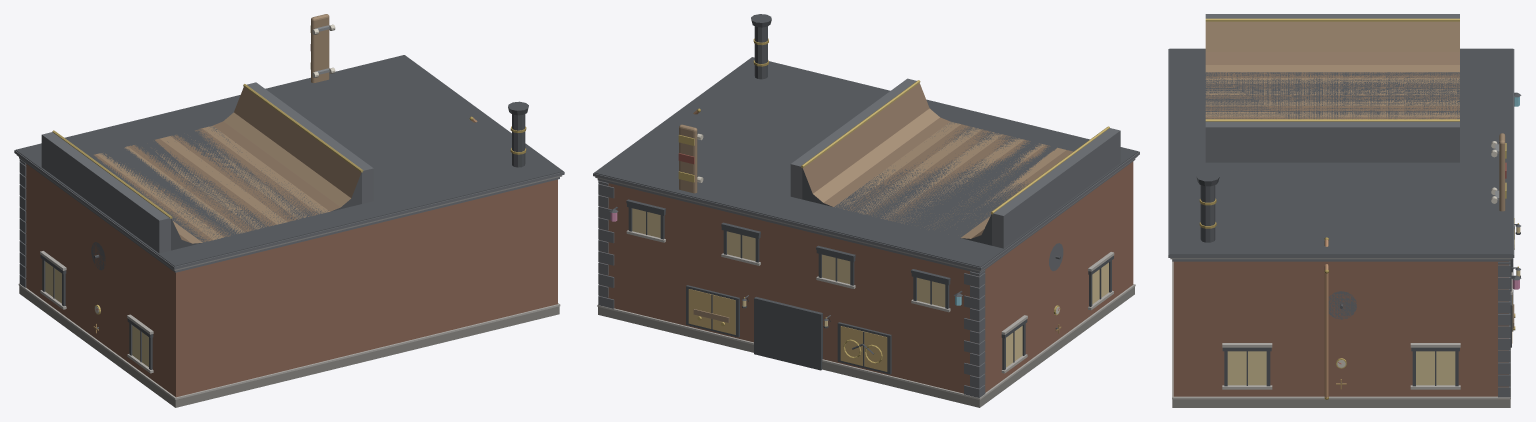
File: centro-noturno-c7e4b1bf.glb
3 views of the same model, side by side, from view 1: azimuth 30°, elevation 25°; view 2: azimuth 150°, elevation 25°; view 3: azimuth 270°, elevation 25° (orthographic). The views are drawn at different scales.
Parts seen in each view (by area): view 1: centro_noturno_body, centro_noturno_wall, centro_noturno_lamp; view 2: centro_noturno_body, centro_noturno_wall, centro_noturno_lamp; view 3: centro_noturno_body, centro_noturno_wall, centro_noturno_lamp.
Boxes of the visible parts, x1,y1,x2,y2 form: centro_noturno_body: [14, 14, 564, 399]; centro_noturno_wall: [19, 164, 559, 407]; centro_noturno_lamp: [45, 261, 148, 366]; centro_noturno_body: [593, 14, 1139, 399]; centro_noturno_wall: [598, 161, 1134, 407]; centro_noturno_lamp: [610, 208, 1108, 371]; centro_noturno_body: [1168, 14, 1521, 399]; centro_noturno_wall: [1172, 261, 1510, 407]; centro_noturno_lamp: [1227, 96, 1520, 385].
Bounding box in the file's own units: 19.97 × 10.15 × 14.43.
